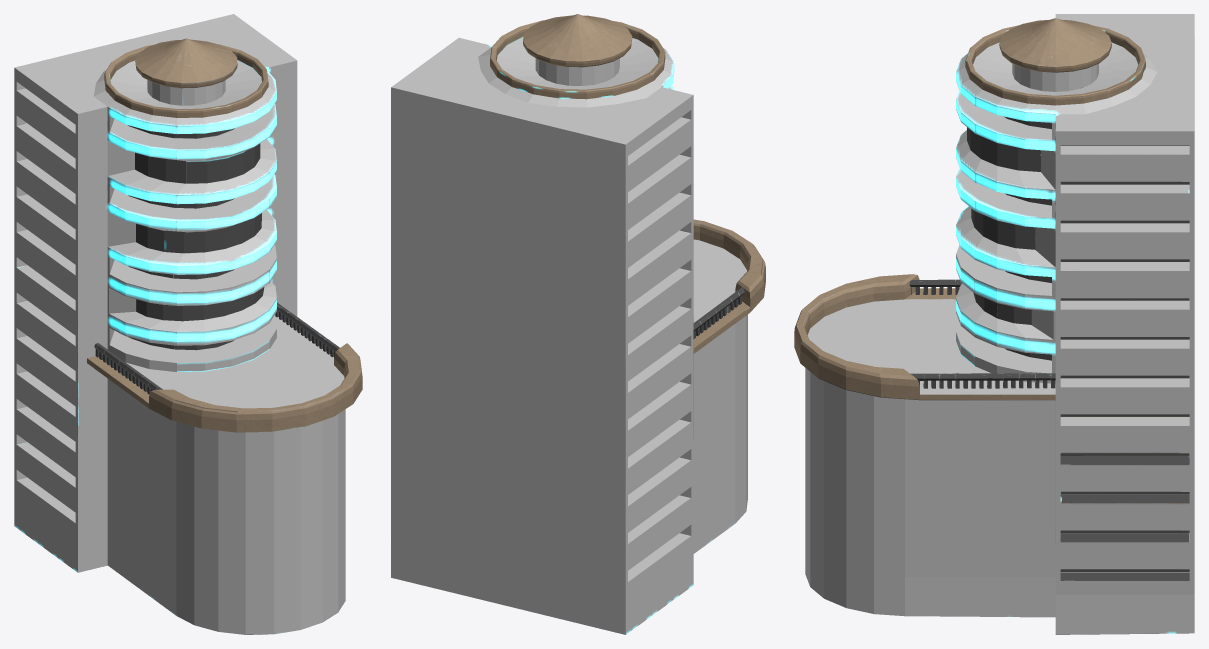
Rendered from Corpo Terrace.fbx.
3 renders of one model, left to right at view 1: azimuth 30°, elevation 25°; view 2: azimuth 150°, elevation 25°; view 3: azimuth 270°, elevation 25°, orthographic. The views are drawn at different scales.
Visible parts, largest first — view 1: Cylinder.001; view 2: Cylinder.001; view 3: Cylinder.001.
Boxes of the visible parts, x1,y1,x2,y2 form: Cylinder.001: [14, 14, 362, 634]; Cylinder.001: [391, 14, 765, 634]; Cylinder.001: [794, 14, 1194, 634].
Size of the model in its own units: 8555 by 18663 by 12185.
1 material, 1 textured.
